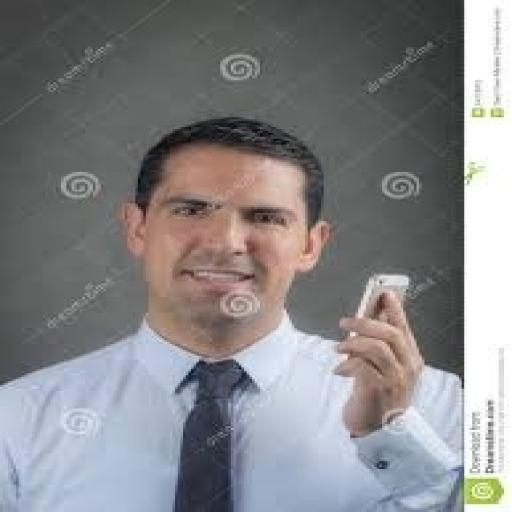calling: (0, 115, 462, 510)
